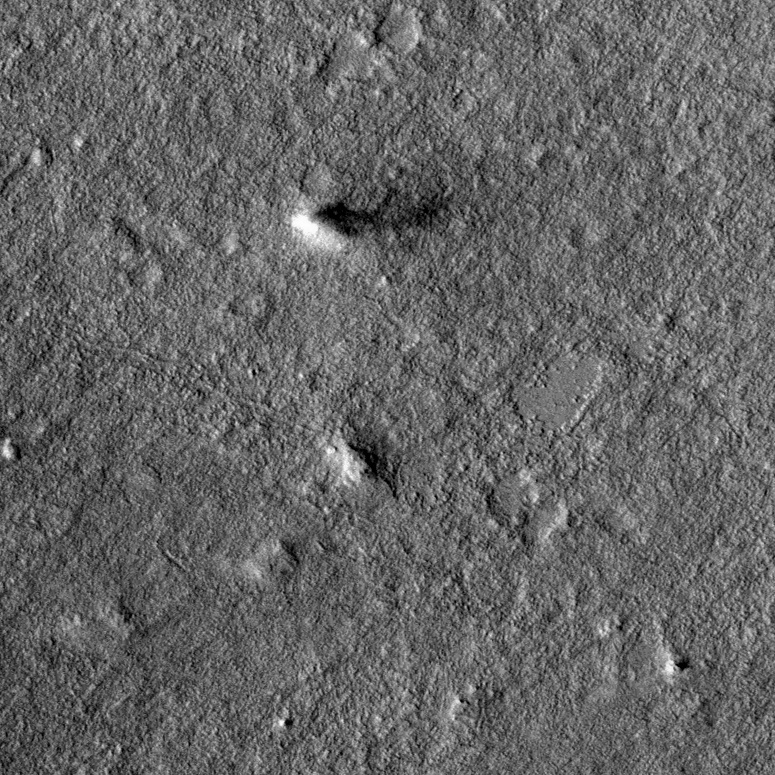dust_devil: (286, 187, 451, 256)
